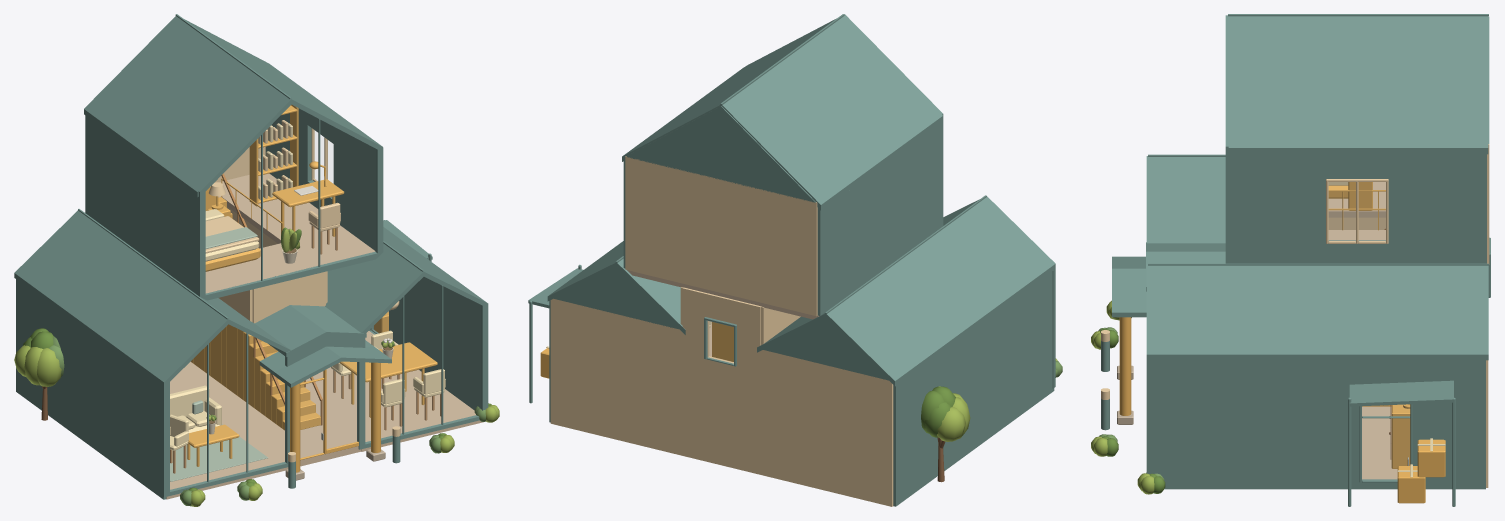
Rendered from 16-B-ca1879cfff94.glb.
3 views of the same model, side by side, from view 1: azimuth 30°, elevation 25°; view 2: azimuth 150°, elevation 25°; view 3: azimuth 270°, elevation 25° (orthographic). The views are drawn at different scales.
Visible parts, largest first — view 1: R 下部房形屋盖, A 一层完整外墙, R 上层房形屋盖, A 上层左墙, S 地面展厅楼面, A 下部完整山墙窗连续实体框, A 上层右完整窗墙, S 梯级, A 上层完整山墙窗连续实体框, S 中核地面, S 上层前楼板, I 桌面 (+26 smaller); view 2: A 下部后墙, R 上层房形屋盖, R 下部房形屋盖, A 上层后墙, A 一层完整外墙, A 上层左墙, A 中核封闭后墙, A 上层实体后山墙, A 下部实体后山墙, L 乔木 · 枝干与树冠, A 中核上部连续侧壁, A 下部完整山墙窗连续实体框 (+2 smaller); view 3: R 下部房形屋盖, R 上层房形屋盖, A 一层完整外墙, A 上层右完整窗墙, R 配送口小雨棚, R 入口小山墙雨棚, S 地面展厅楼面, I 礼盒, A 下部完整山墙窗连续实体框, R 中央门厅连续屋面, L 地被与灌丛, A 上层完整山墙窗连续实体框 (+12 smaller).
Boxes of the visible parts, x1,y1,x2,y2 form: R 下部房形屋盖: [14, 210, 484, 386]; A 一层完整外墙: [16, 277, 480, 499]; R 上层房形屋盖: [84, 16, 382, 197]; A 上层左墙: [85, 115, 197, 294]; S 地面展厅楼面: [166, 331, 483, 499]; A 下部完整山墙窗连续实体框: [161, 271, 488, 497]; A 上层右完整窗墙: [265, 108, 375, 250]; S 梯级: [191, 197, 320, 430]; A 上层完整山墙窗连续实体框: [197, 98, 383, 300]; S 中核地面: [173, 361, 361, 466]; S 上层前楼板: [205, 228, 375, 293]; I 桌面: [188, 179, 437, 447]; A 下部后墙: [550, 298, 893, 506]; R 上层房形屋盖: [622, 16, 942, 210]; R 下部房形屋盖: [547, 197, 1054, 386]; A 上层后墙: [625, 156, 817, 316]; A 一层完整外墙: [549, 271, 1054, 506]; A 上层左墙: [817, 123, 941, 315]; A 中核封闭后墙: [682, 287, 760, 474]; A 上层实体后山墙: [626, 106, 815, 202]; A 下部实体后山墙: [554, 267, 888, 380]; L 乔木 · 枝干与树冠: [921, 386, 970, 482]; A 中核上部连续侧壁: [680, 287, 800, 344]; A 下部完整山墙窗连续实体框: [943, 196, 1055, 388]; R 下部房形屋盖: [1148, 157, 1488, 360]; R 上层房形屋盖: [1228, 16, 1488, 154]; A 一层完整外墙: [1152, 360, 1485, 489]; A 上层右完整窗墙: [1229, 154, 1486, 263]; R 配送口小雨棚: [1349, 380, 1453, 406]; R 入口小山墙雨棚: [1112, 256, 1146, 317]; S 地面展厅楼面: [1362, 413, 1397, 479]; I 礼盒: [1397, 439, 1445, 503]; A 下部完整山墙窗连续实体框: [1146, 156, 1151, 473]; R 中央门厅连续屋面: [1146, 242, 1225, 291]; L 地被与灌丛: [1091, 300, 1165, 494]; A 上层完整山墙窗连续实体框: [1225, 15, 1230, 263].
Bounding box in the file's own units: 23.07 × 19.14 × 18.02.
